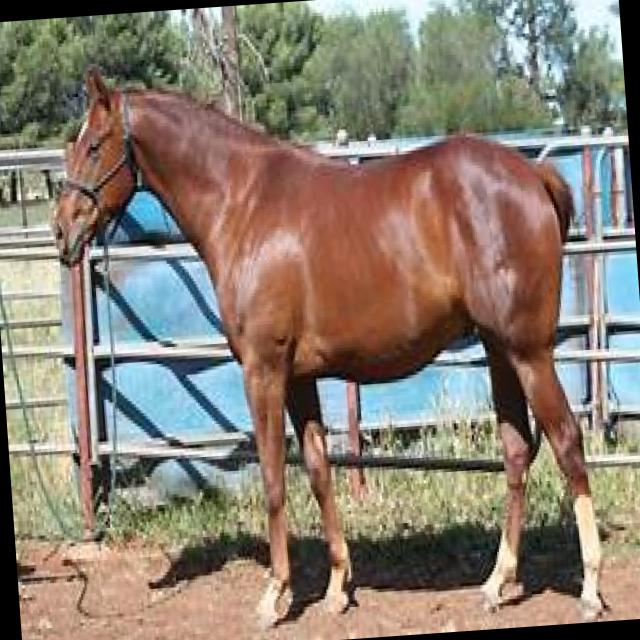animal: (44, 35, 604, 640)
